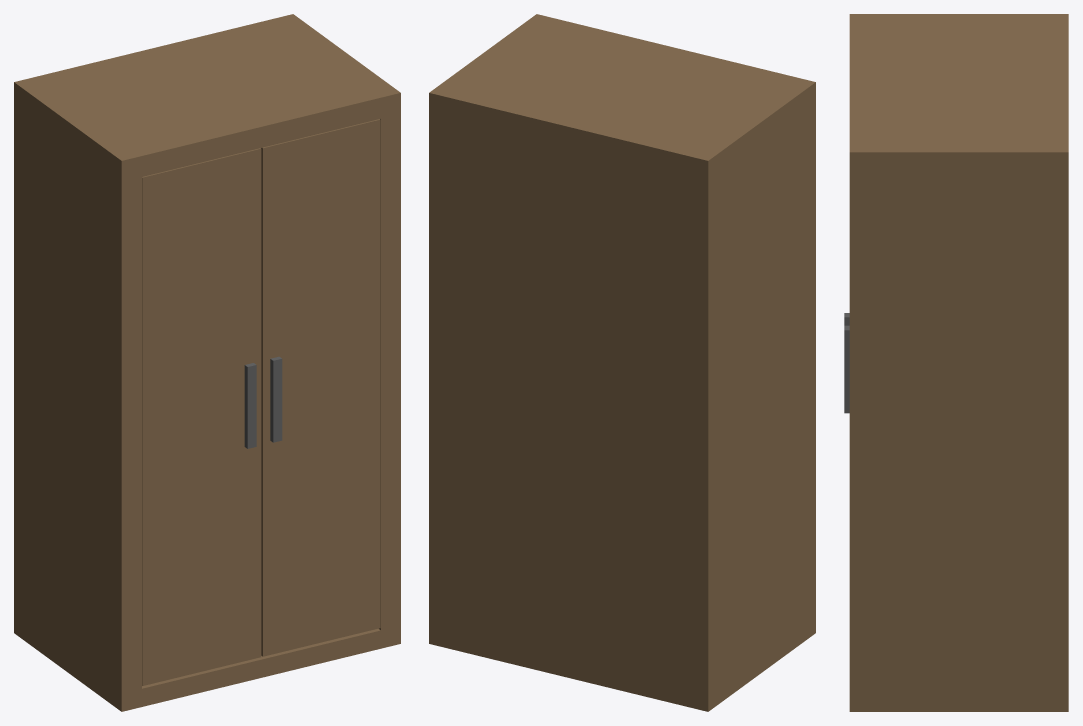
Rendered from Wardrobe.fbx.
3 views of the same model, side by side, from view 1: azimuth 30°, elevation 25°; view 2: azimuth 150°, elevation 25°; view 3: azimuth 270°, elevation 25° (orthographic).
Parts seen in each view (by area): view 1: Wardrobe; view 2: Wardrobe; view 3: Wardrobe.
Boxes of the visible parts, left/top/right/bottom form: Wardrobe: left=14, top=14, right=400, bottom=711; Wardrobe: left=429, top=14, right=815, bottom=711; Wardrobe: left=844, top=14, right=1068, bottom=711.
Size of the model in its own units: 1.55 by 2.93 by 1.06.
